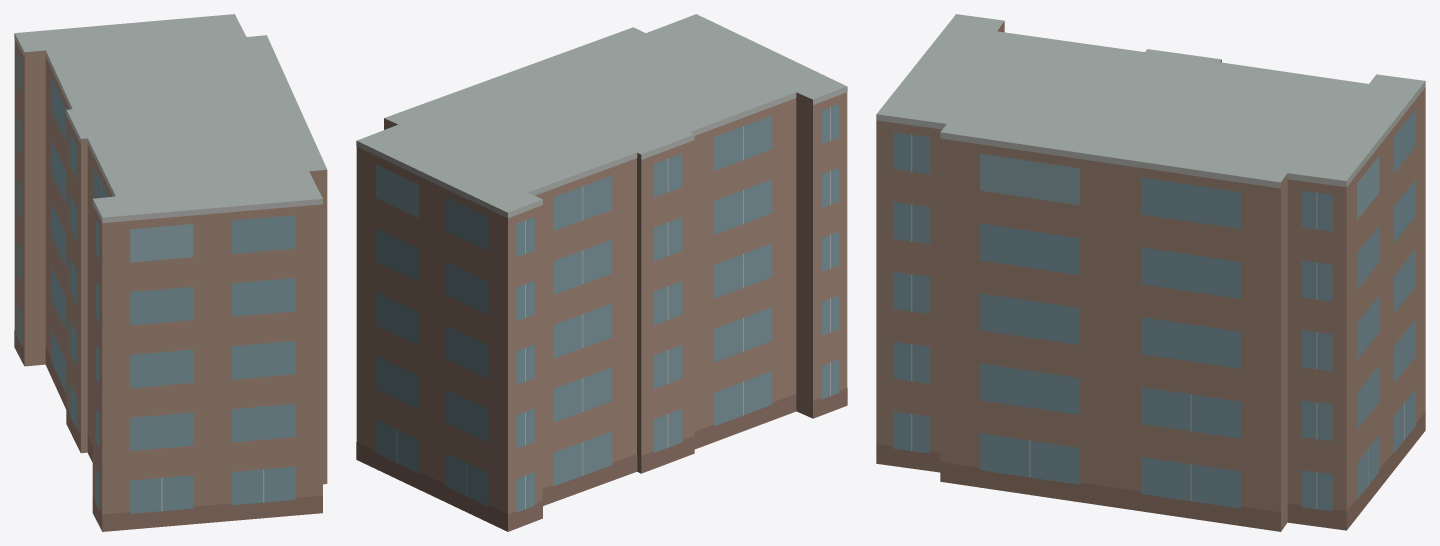
Rendered from survey-upis-32948197.glb.
3 renders of one model, left to right at view 1: azimuth 30°, elevation 25°; view 2: azimuth 150°, elevation 25°; view 3: azimuth 270°, elevation 25°, orthographic. The views are drawn at different scales.
Visible parts, largest first — view 1: survey-upis-32948197.tmp; view 2: survey-upis-32948197.tmp; view 3: survey-upis-32948197.tmp.
Boxes of the visible parts, left/top/right/bottom form: survey-upis-32948197.tmp: left=14, top=14, right=327, bottom=531; survey-upis-32948197.tmp: left=356, top=14, right=847, bottom=531; survey-upis-32948197.tmp: left=876, top=14, right=1425, bottom=531.
Bounding box in the file's own units: 14.38 × 13.9 × 19.81.
